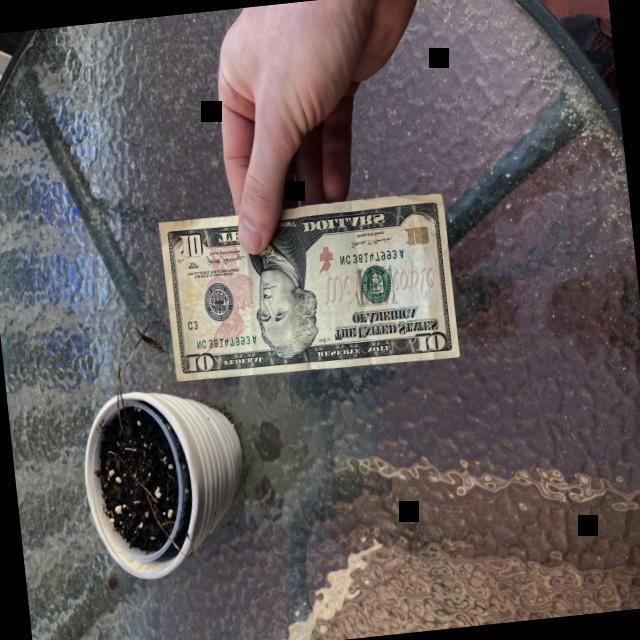ten: (158, 190, 460, 387)
